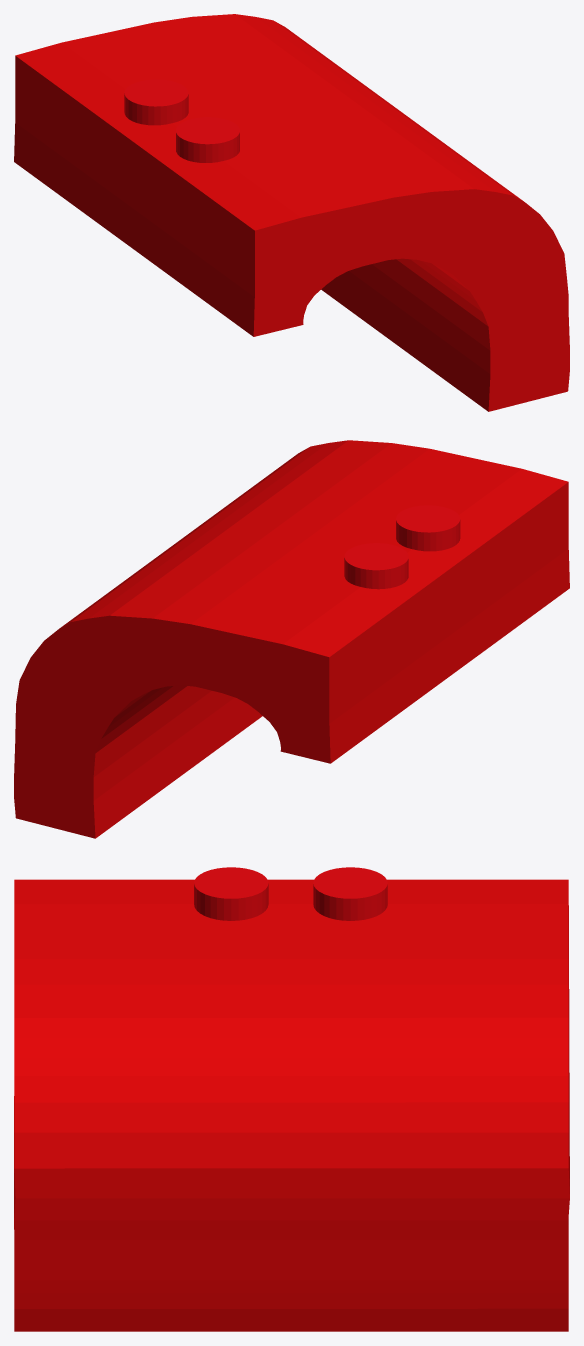
File: Hood.fbx
3 renders of one model, top to bottom at view 1: azimuth 30°, elevation 25°; view 2: azimuth 150°, elevation 25°; view 3: azimuth 270°, elevation 25°, orthographic. The views are drawn at different scales.
Visible parts, largest first — view 1: Cube.002; view 2: Cube.002; view 3: Cube.002.
Part boxes in pixels (x1,y1,x2,y2): Cube.002: (14, 14, 569, 411); Cube.002: (14, 440, 569, 838); Cube.002: (14, 867, 569, 1331).
Bounding box in the file's own units: 207 × 161 × 271.
